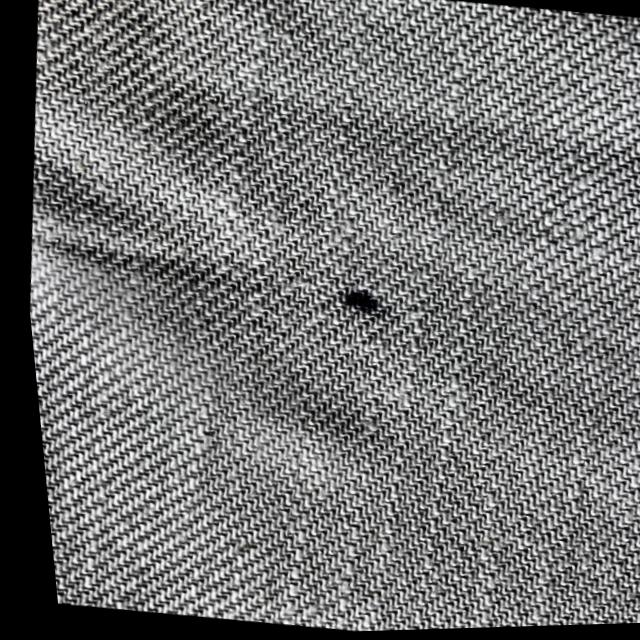Hole: (325, 283, 391, 324)
